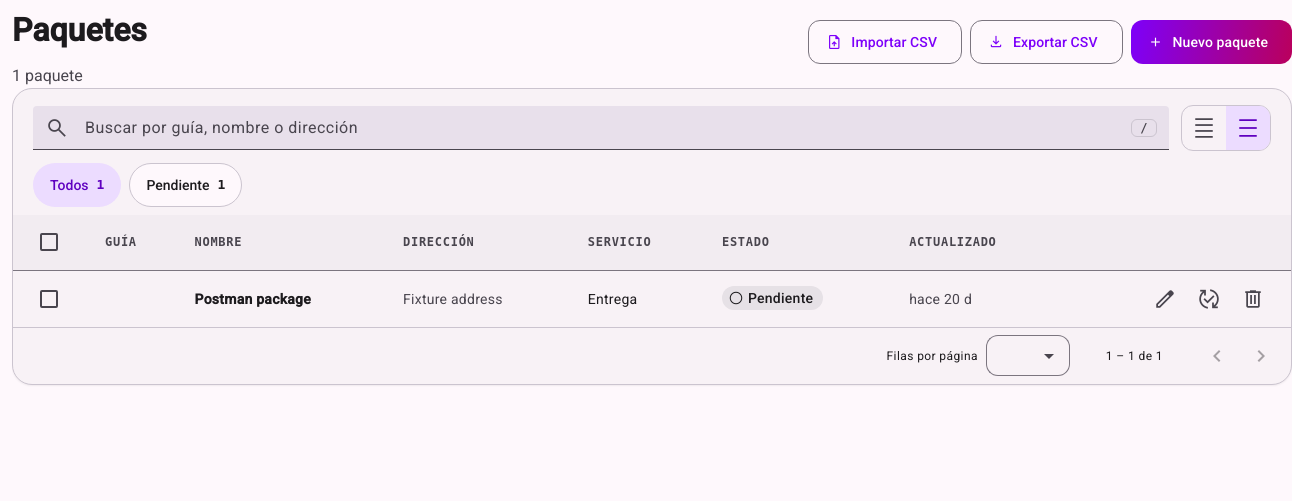
Test: PackageListComponent › estado › cambia el estado directamente y recarga la fila
Step 1. Click the button named "Cambiar el estado del paquete Postman package" → coordinates (1209, 299), box [1187,277,1231,321]
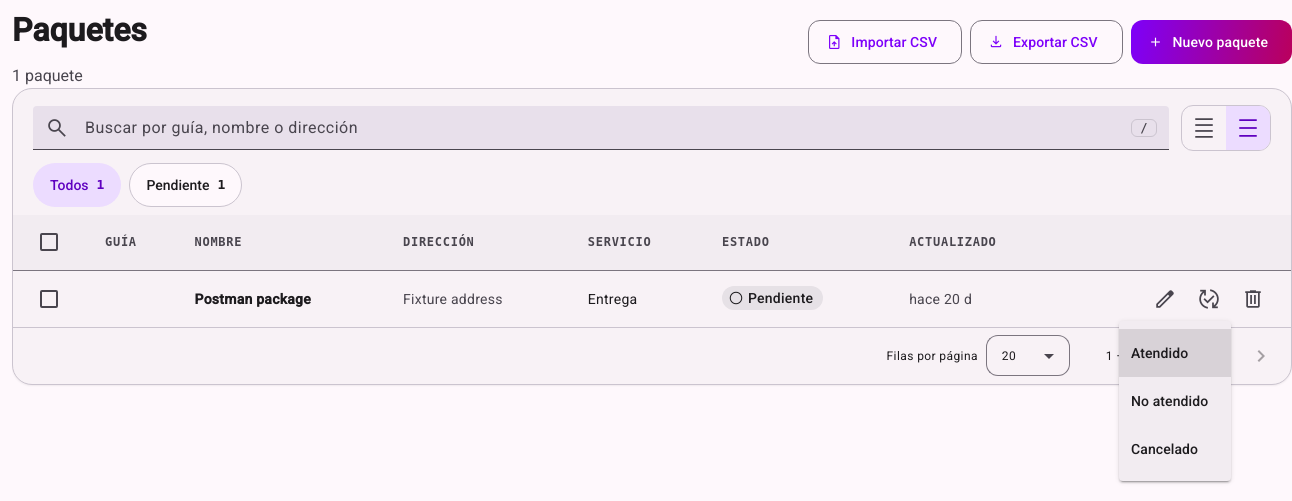
Step 2. Click the menu item "Atendido" → coordinates (1175, 353), box [1119,329,1231,377]
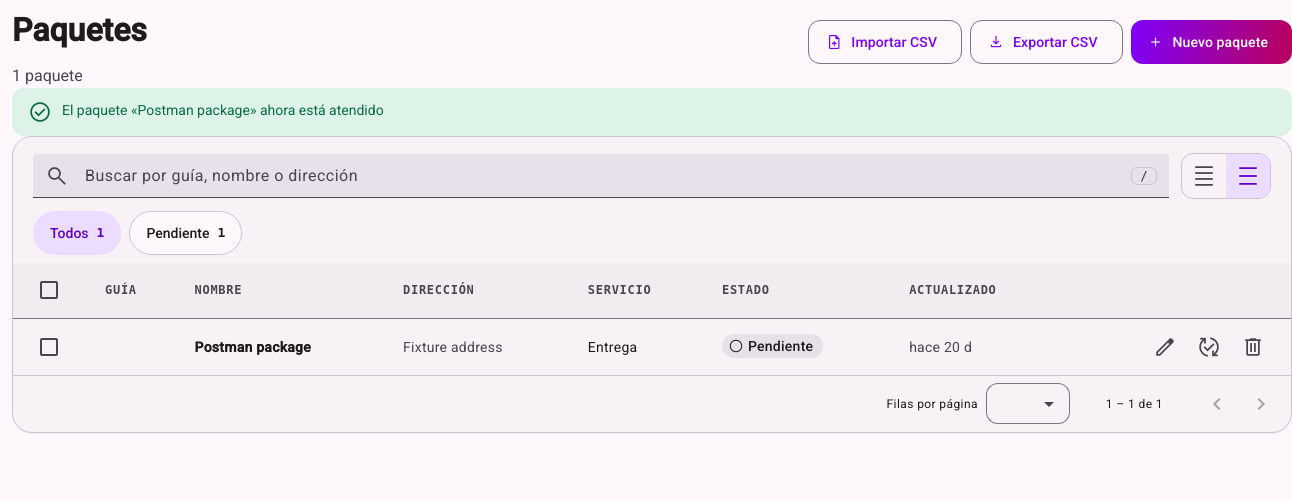
Result: the text "ahora está atendido" is shown at [62,102,384,118]
